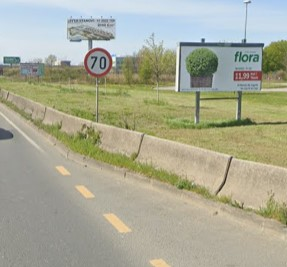Ograničenje brzine 70: (84, 47, 113, 77)
